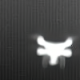plane: (29, 31, 79, 70)
